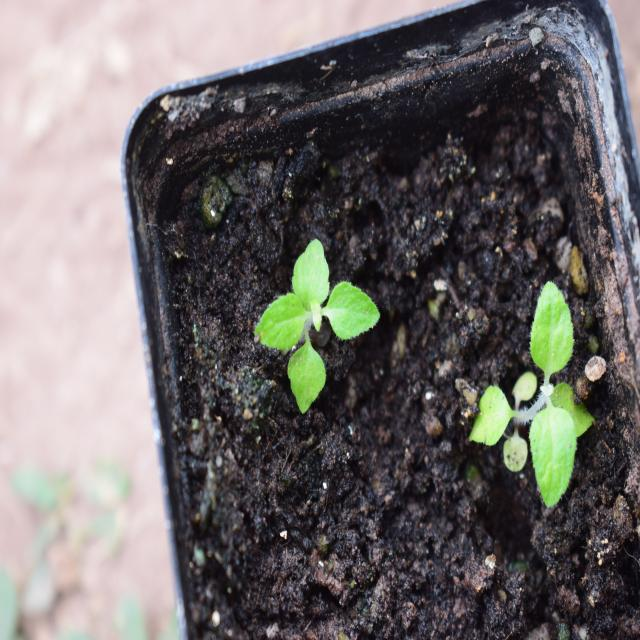billygoat_weed: (475, 279, 601, 532), (251, 239, 366, 401)
